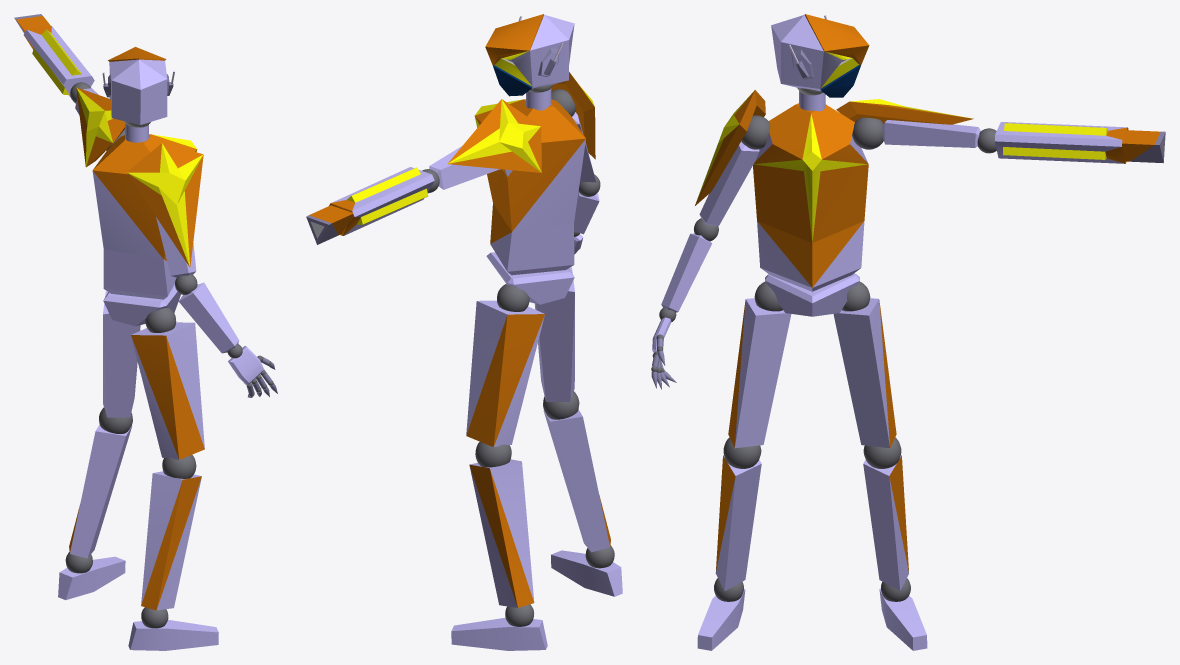
Rendered from rangervibrant.fbx.
3 views of the same model, side by side, from view 1: azimuth 30°, elevation 25°; view 2: azimuth 150°, elevation 25°; view 3: azimuth 270°, elevation 25° (orthographic). The views are drawn at different scales.
Visible parts, largest first — view 1: polySurface59; view 2: polySurface59; view 3: polySurface59.
Boxes of the visible parts, x1,y1,x2,y2 form: polySurface59: [14, 14, 277, 650]; polySurface59: [306, 14, 622, 650]; polySurface59: [651, 14, 1165, 650].
Size of the model in its own units: 3.71 by 17.07 by 12.88.
